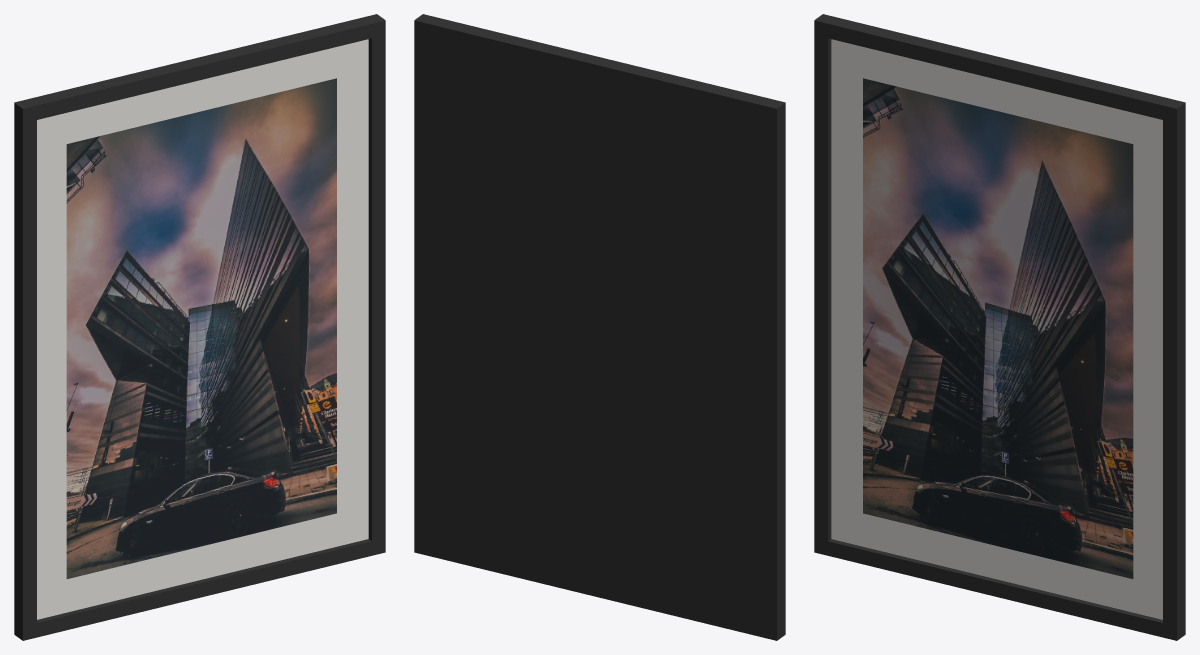
File: spetsen-60.gltf
3 views of the same model, side by side, from view 1: azimuth 30°, elevation 25°; view 2: azimuth 150°, elevation 25°; view 3: azimuth 330°, elevation 25° (orthographic).
Visible parts, largest first — view 1: tavla; view 2: tavla; view 3: tavla.
Part boxes in pixels (box(x1,y1,x2,y2)): tavla: box(14, 14, 385, 640); tavla: box(414, 14, 785, 640); tavla: box(814, 14, 1185, 640).
Bounding box in the file's own units: 0.5236 × 0.7336 × 0.022.
3 materials, 1 textured.
